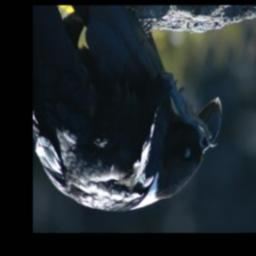Crow: (34, 5, 225, 212)
